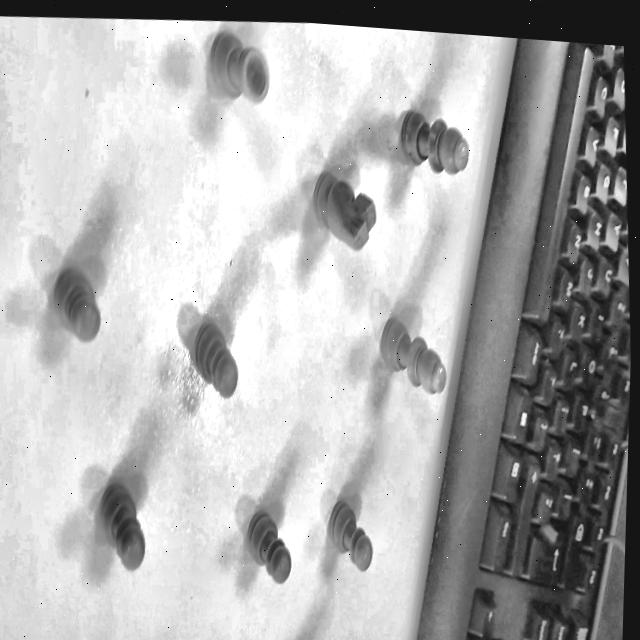white-bishop: (380, 317, 445, 393), (399, 111, 468, 174)
white-knight: (312, 173, 375, 249)
white-pawn: (177, 306, 237, 397), (97, 482, 144, 570), (52, 267, 99, 342), (246, 510, 290, 583), (327, 501, 371, 571)
white-rook: (209, 33, 268, 102)
